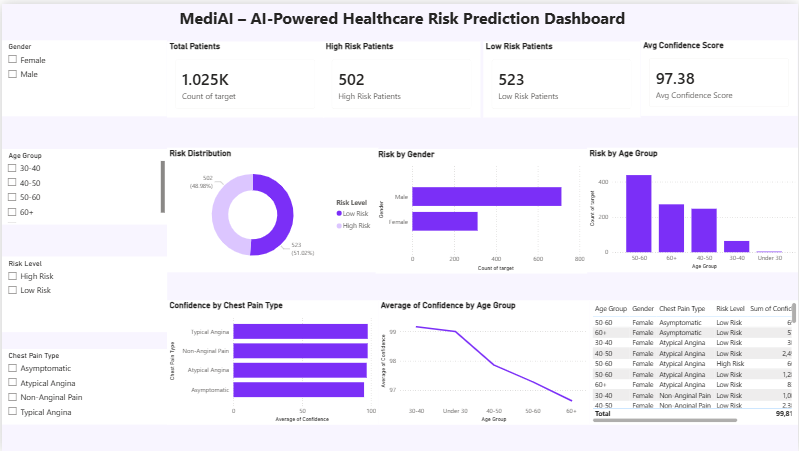

The page's visual inventory and layout, read from the dashboard file:
{"tool":"powerbi","page":{"name":"Page 1","canvas":[1600,900],"ordinal":0},"visuals":[{"type":"textbox","box":[10.7,0,1588.4,53.7],"z":0},{"type":"slicer","fields":{"Values":["medi_ai_final.Gender"]},"box":[0,73.6,331.3,152.5],"z":1000},{"type":"slicer","fields":{"Values":["medi_ai_final.Age Group"]},"box":[0,291,332,152],"z":2000},{"type":"slicer","fields":{"Values":["medi_ai_final.Risk Level"]},"box":[0,507,332,152],"z":3000},{"type":"slicer","fields":{"Values":["medi_ai_final.Chest Pain Type"]},"box":[0,693.5,332,152],"z":4000},{"type":"cardVisual","title":"Total Patients","fields":{"Data":["CountNonNull(medi_ai_final.target)"]},"box":[330.9,74.4,316,152.4],"z":5000},{"type":"cardVisual","title":"High Risk Patients","fields":{"Data":["medi_ai_final.High Risk Patients"]},"box":[646.9,74.4,316,152.4],"z":6000},{"type":"cardVisual","title":"Low Risk Patients","fields":{"Data":["medi_ai_final.Low Risk Patients"]},"box":[966.6,74.4,316,152.4],"z":7000},{"type":"cardVisual","title":"Avg Confidence Score","fields":{"Data":["Avg(medi_ai_final.Confidence)"]},"box":[1283.1,73.6,315.5,152],"z":8000},{"type":"donutChart","title":"Risk Distribution","fields":{"Category":["medi_ai_final.Risk Level"],"Y":["CountNonNull(medi_ai_final.target)"]},"box":[331.3,289.2,425,250.7],"z":9000},{"type":"clusteredBarChart","title":"Risk by Gender","fields":{"Category":["medi_ai_final.Gender"],"Y":["CountNonNull(medi_ai_final.target)"]},"box":[750.2,291,425,250],"z":10000},{"type":"clusteredColumnChart","title":"Risk by Age Group","fields":{"Category":["medi_ai_final.Age Group"],"Y":["CountNonNull(medi_ai_final.target)"]},"box":[1174.7,290,425,250],"z":11000},{"type":"clusteredBarChart","title":"Confidence by Chest Pain Type","fields":{"Category":["medi_ai_final.Chest Pain Type"],"Y":["Avg(medi_ai_final.Confidence)"]},"box":[331.3,596,425,250.7],"z":12000},{"type":"lineChart","fields":{"Category":["medi_ai_final.Age Group"],"Y":["Avg(medi_ai_final.Confidence)"]},"box":[755.5,596,425,250.7],"z":13000},{"type":"tableEx","fields":{"Values":["medi_ai_final.Age Group","medi_ai_final.Gender","medi_ai_final.Chest Pain Type","medi_ai_final.Risk Level","Sum(medi_ai_final.Confidence)","Sum(medi_ai_final.Prediction)"]},"box":[1179.7,596,420.7,250.7],"z":14000}]}

Visuals, with their boxes in screenshot pixels (x1, y1, x2, y2), scaled from the page's 1600x900 canvas onto the 799x451 screenshot:
textbox: [x1=5, y1=0, x2=798, y2=27]
slicer - medi_ai_final.Gender: [x1=0, y1=37, x2=165, y2=113]
slicer - medi_ai_final.Age Group: [x1=0, y1=146, x2=166, y2=222]
slicer - medi_ai_final.Risk Level: [x1=0, y1=254, x2=166, y2=330]
slicer - medi_ai_final.Chest Pain Type: [x1=0, y1=348, x2=166, y2=424]
"Total Patients" cardVisual: [x1=165, y1=37, x2=323, y2=114]
"High Risk Patients" cardVisual: [x1=323, y1=37, x2=481, y2=114]
"Low Risk Patients" cardVisual: [x1=483, y1=37, x2=640, y2=114]
"Avg Confidence Score" cardVisual: [x1=641, y1=37, x2=798, y2=113]
"Risk Distribution" donutChart: [x1=165, y1=145, x2=378, y2=271]
"Risk by Gender" clusteredBarChart: [x1=375, y1=146, x2=587, y2=271]
"Risk by Age Group" clusteredColumnChart: [x1=587, y1=145, x2=798, y2=271]
"Confidence by Chest Pain Type" clusteredBarChart: [x1=165, y1=299, x2=378, y2=424]
lineChart - medi_ai_final.Age Group x Avg(medi_ai_final.Confidence): [x1=377, y1=299, x2=590, y2=424]
tableEx - medi_ai_final.Age Group x medi_ai_final.Gender: [x1=589, y1=299, x2=798, y2=424]
